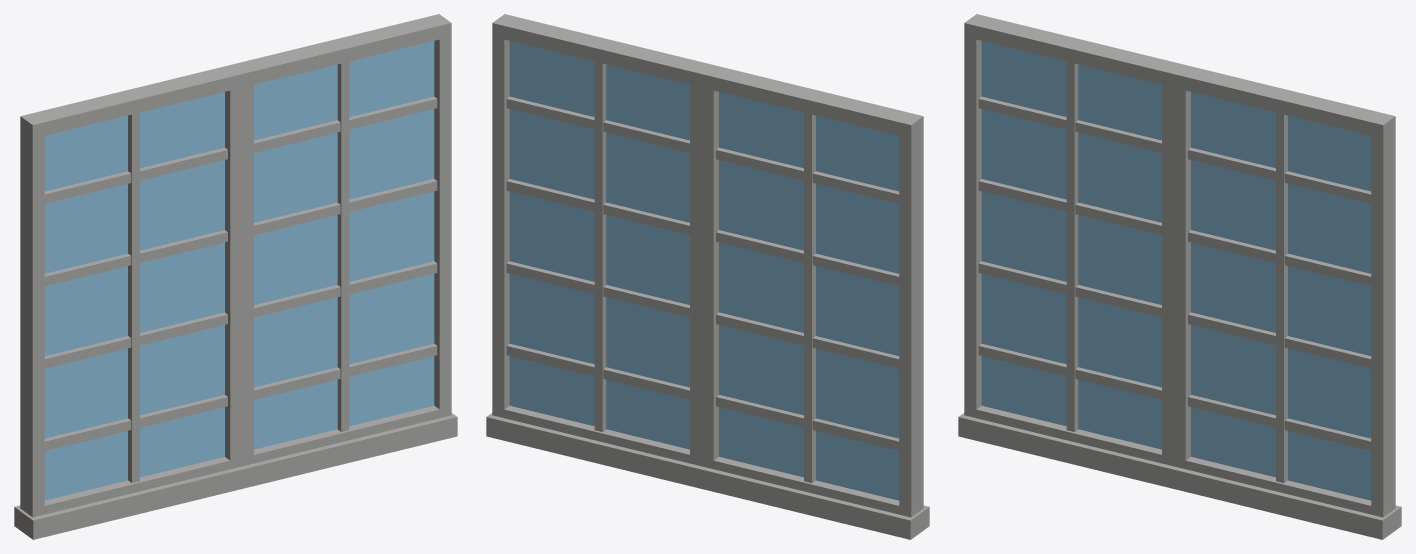
The model's file is Window_Large2.glb.
The picture shows the model from 3 angles, left to right: view 1: azimuth 30°, elevation 25°; view 2: azimuth 150°, elevation 25°; view 3: azimuth 330°, elevation 25°; orthographic projection.
Visible parts, largest first — view 1: Window_Large2; view 2: Window_Large2; view 3: Window_Large2.
Boxes of the visible parts, x1,y1,x2,y2 form: Window_Large2: [14, 14, 457, 539]; Window_Large2: [486, 14, 929, 539]; Window_Large2: [958, 14, 1401, 539].
Bounding box in the file's own units: 1.83 × 1.7 × 0.1411.
